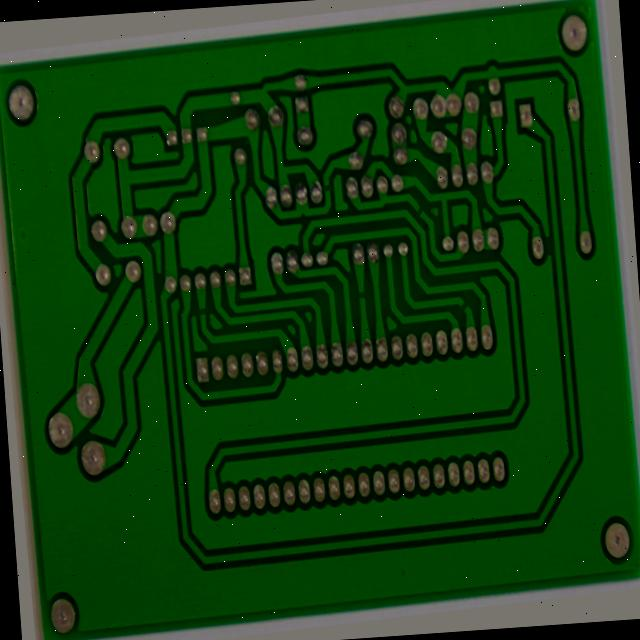open_circuit: (459, 305, 476, 321), (417, 202, 433, 218), (356, 286, 369, 304), (193, 295, 206, 313), (325, 173, 336, 189)
